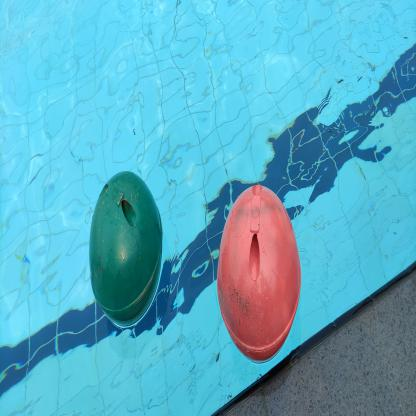green_buoy: (87, 168, 165, 333)
red_buoy: (215, 181, 302, 367)
